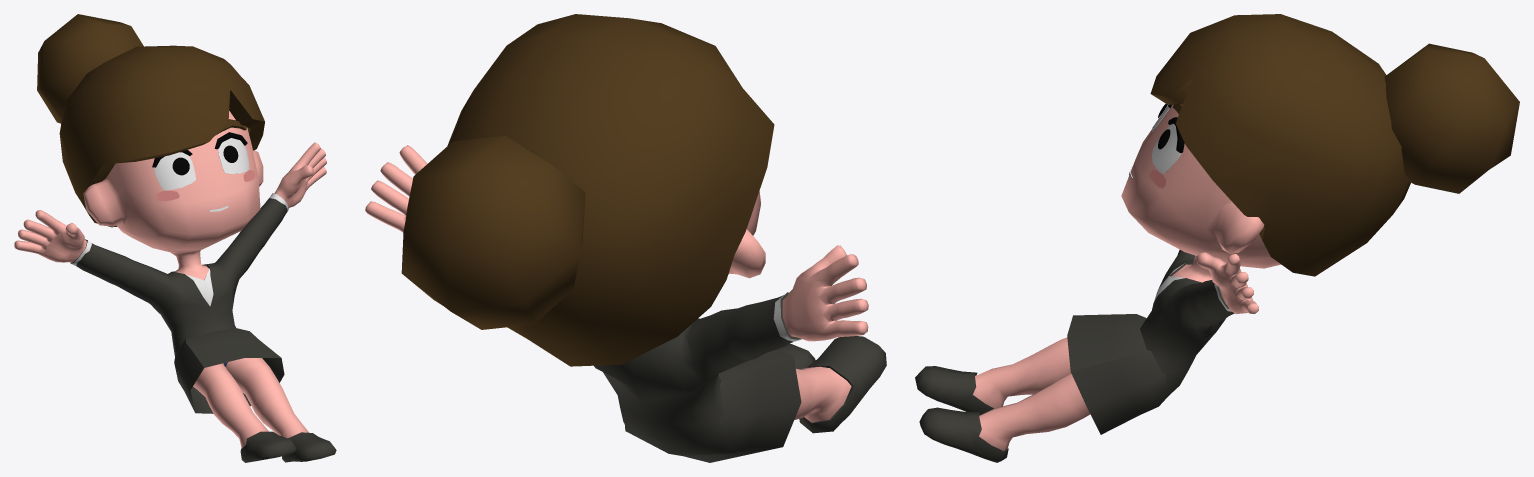
Rendered from Personaje_juzgado.fbx.
The picture shows the model from 3 angles, left to right: view 1: azimuth 30°, elevation 25°; view 2: azimuth 150°, elevation 25°; view 3: azimuth 270°, elevation 25°; orthographic projection. The views are drawn at different scales.
Parts seen in each view (by area): view 1: hair6.003, body.023, shirt3.017, body.022, shoes2.004, eyesbase1.001, eyes6.011; view 2: hair6.003, shirt3.017, body.023, body.022, shoes2.004; view 3: hair6.003, body.023, body.022, shirt3.017, shoes2.004, eyesbase1.001.
Boxes of the visible parts, x1=… form: hair6.003: x1=37, y1=14, x2=264, y2=227; body.023: x1=14, y1=111, x2=326, y2=448; shirt3.017: x1=70, y1=193, x2=288, y2=356; body.022: x1=174, y1=328, x2=284, y2=413; shoes2.004: x1=240, y1=431, x2=336, y2=462; eyesbase1.001: x1=152, y1=132, x2=249, y2=190; eyes6.011: x1=172, y1=145, x2=238, y2=175; hair6.003: x1=401, y1=14, x2=774, y2=366; shirt3.017: x1=594, y1=292, x2=801, y2=450; body.023: x1=365, y1=145, x2=868, y2=422; body.022: x1=624, y1=349, x2=801, y2=462; shoes2.004: x1=777, y1=336, x2=886, y2=433; hair6.003: x1=1150, y1=14, x2=1519, y2=276; body.023: x1=973, y1=104, x2=1280, y2=450; body.022: x1=1067, y1=314, x2=1171, y2=434; shirt3.017: x1=1140, y1=250, x2=1234, y2=395; shoes2.004: x1=915, y1=366, x2=1008, y2=462; eyesbase1.001: x1=1152, y1=104, x2=1184, y2=174.
Bounding box in the file's own units: 134 × 138 × 180.
